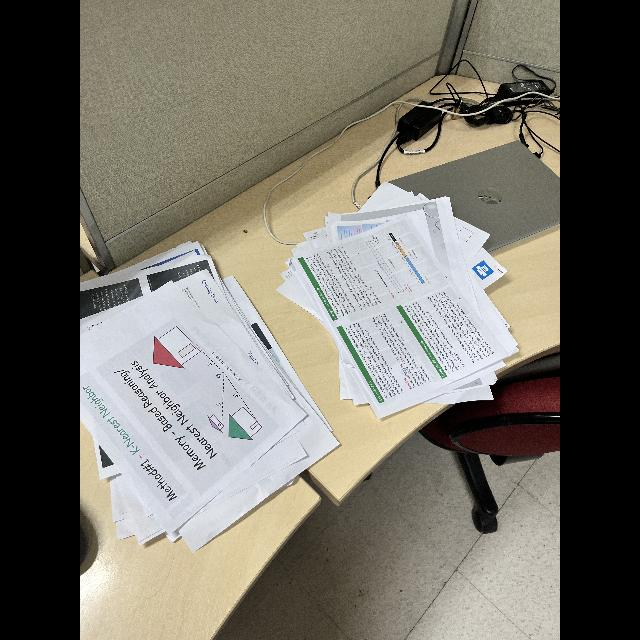reuseable_paper: (80, 238, 346, 550), (274, 175, 522, 428)
